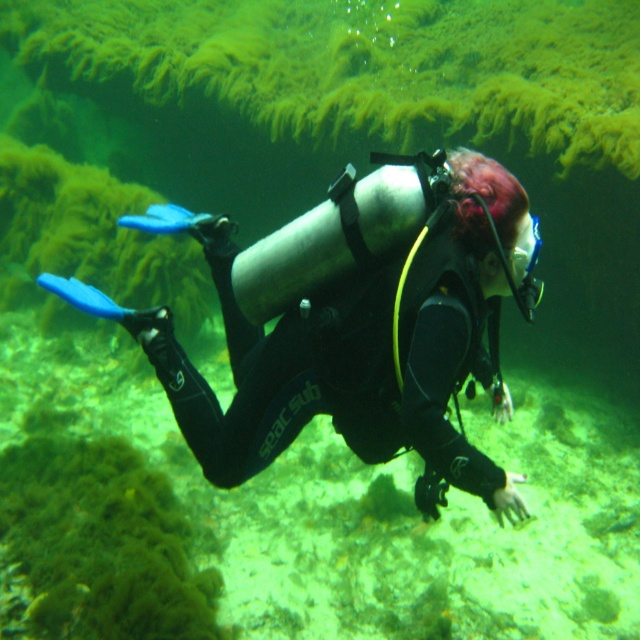Fish: (17, 581, 91, 640)
